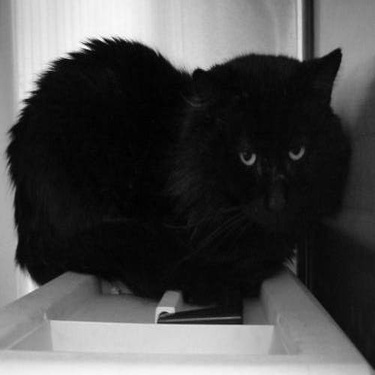cat: (6, 35, 347, 309)
